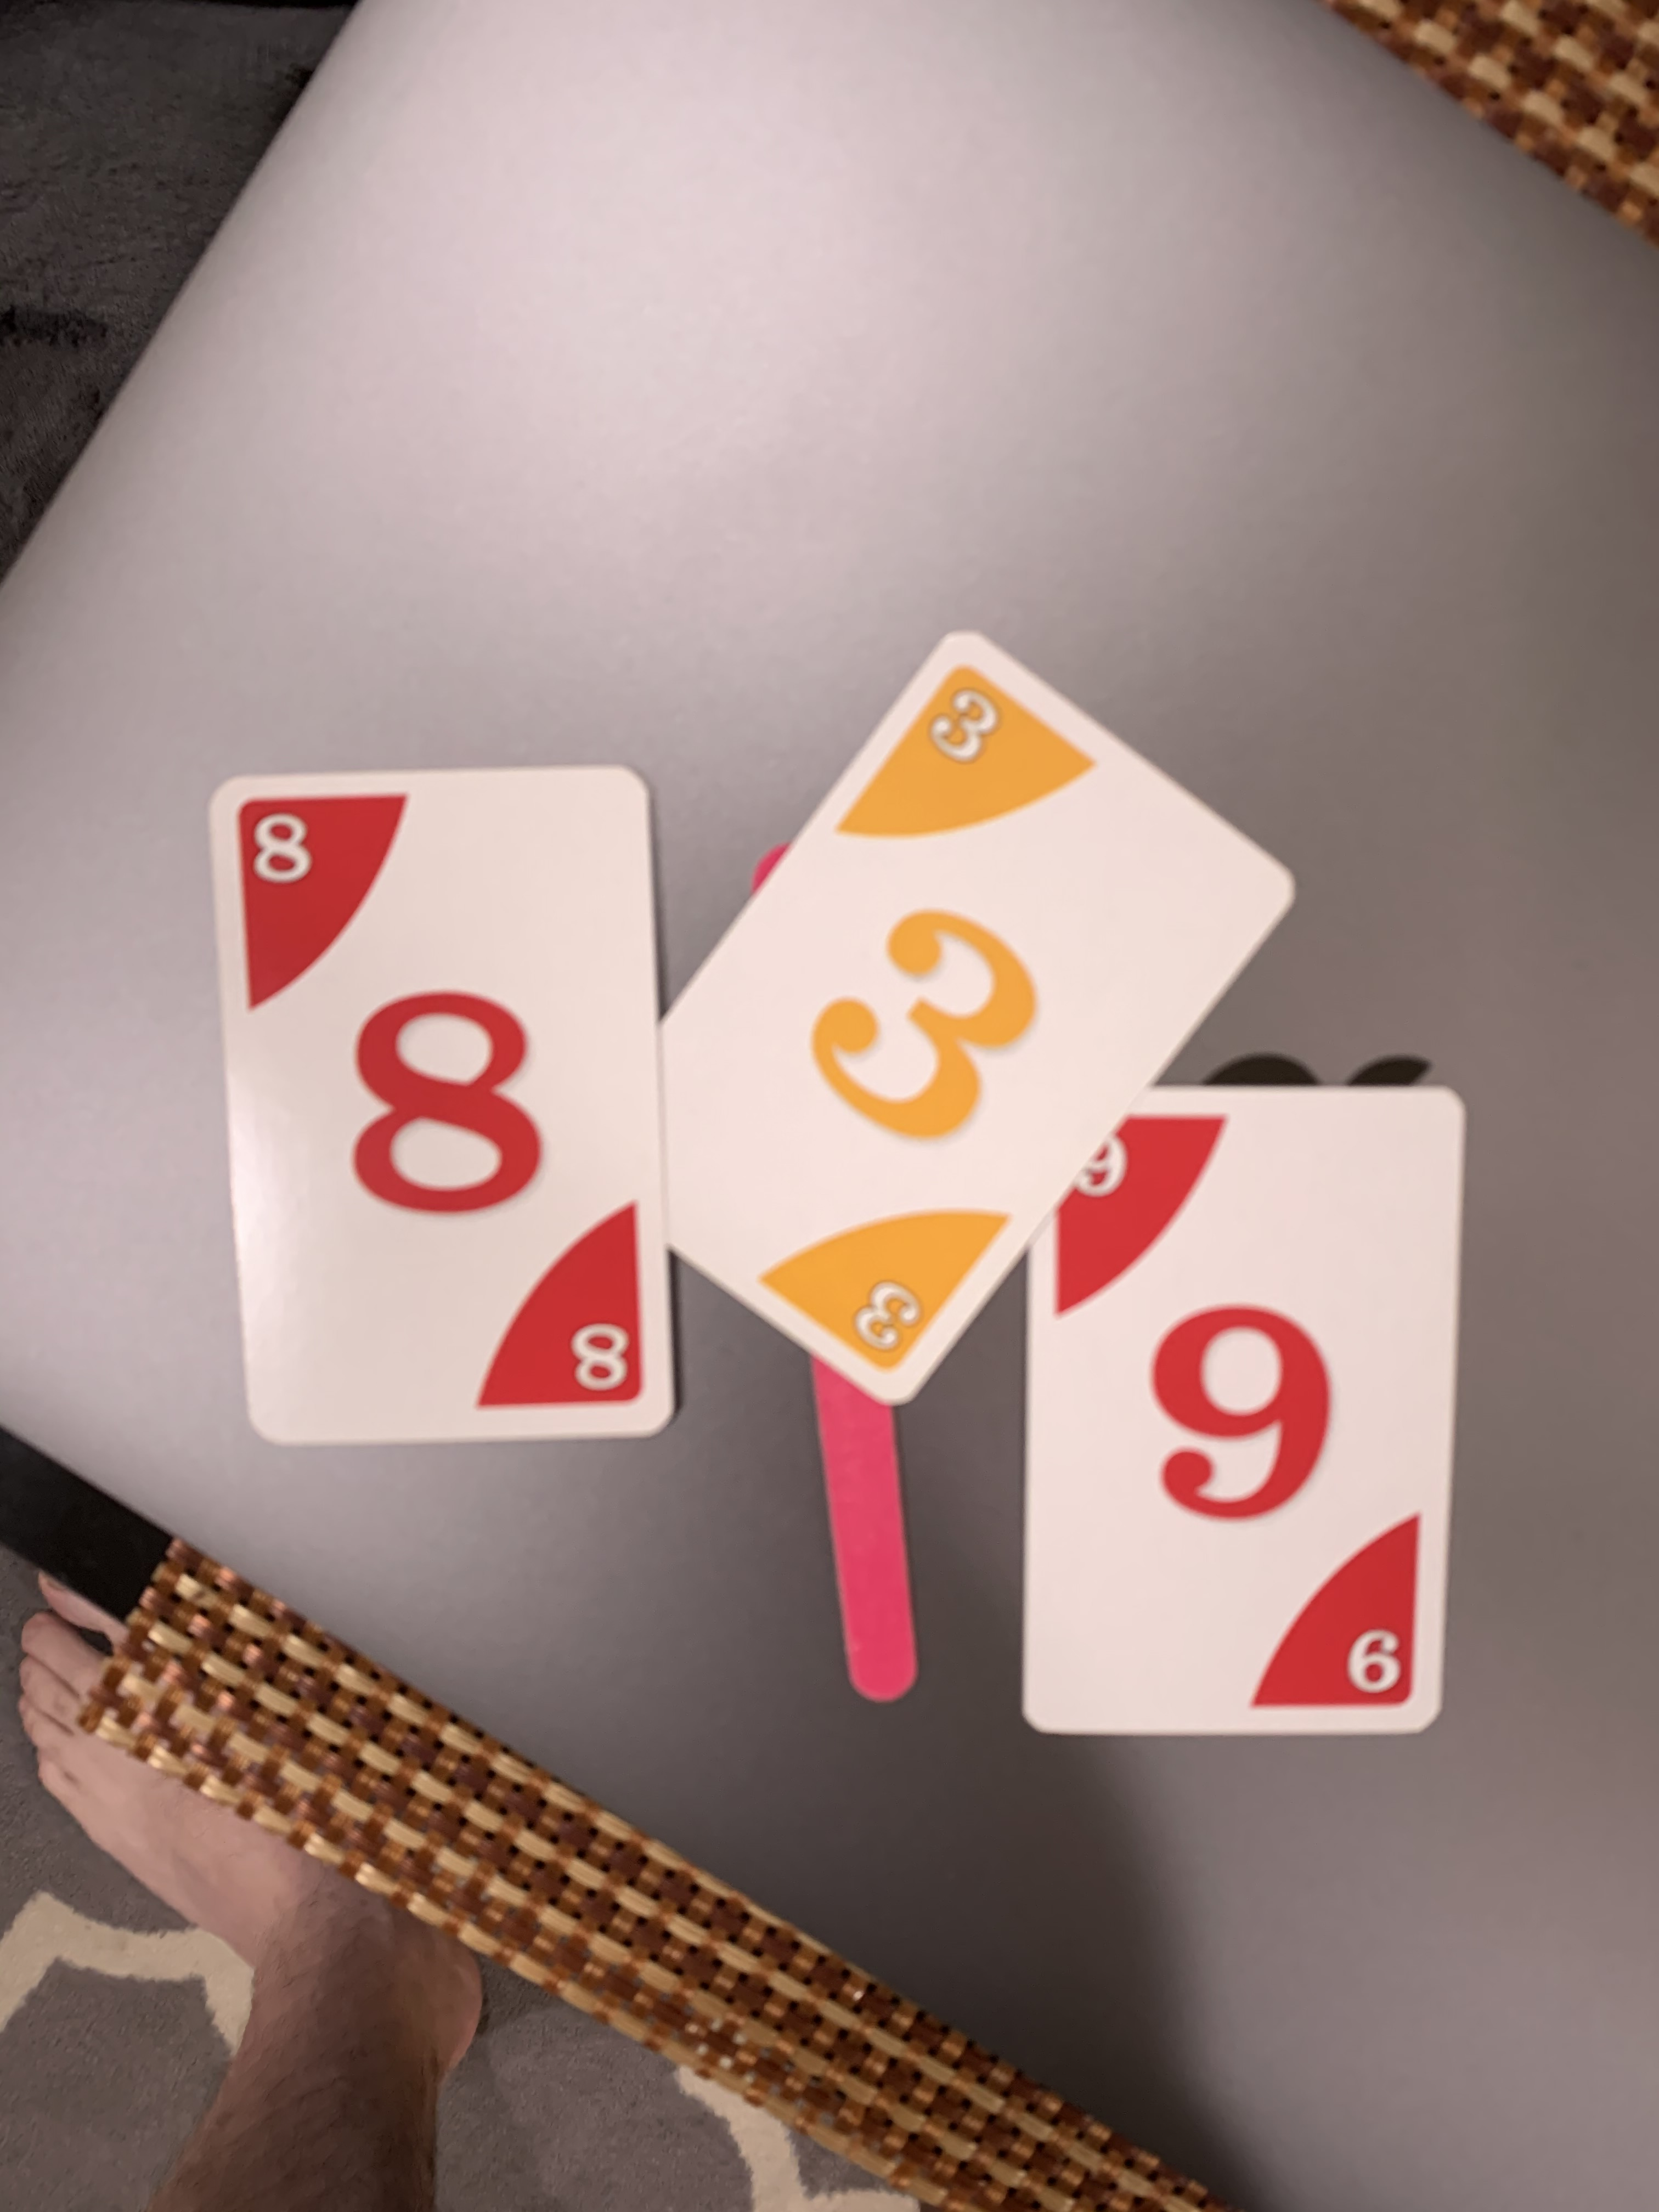eleven: (190, 742, 695, 1472)
nine: (1000, 1080, 1480, 1763)
three: (603, 610, 1309, 1426)
